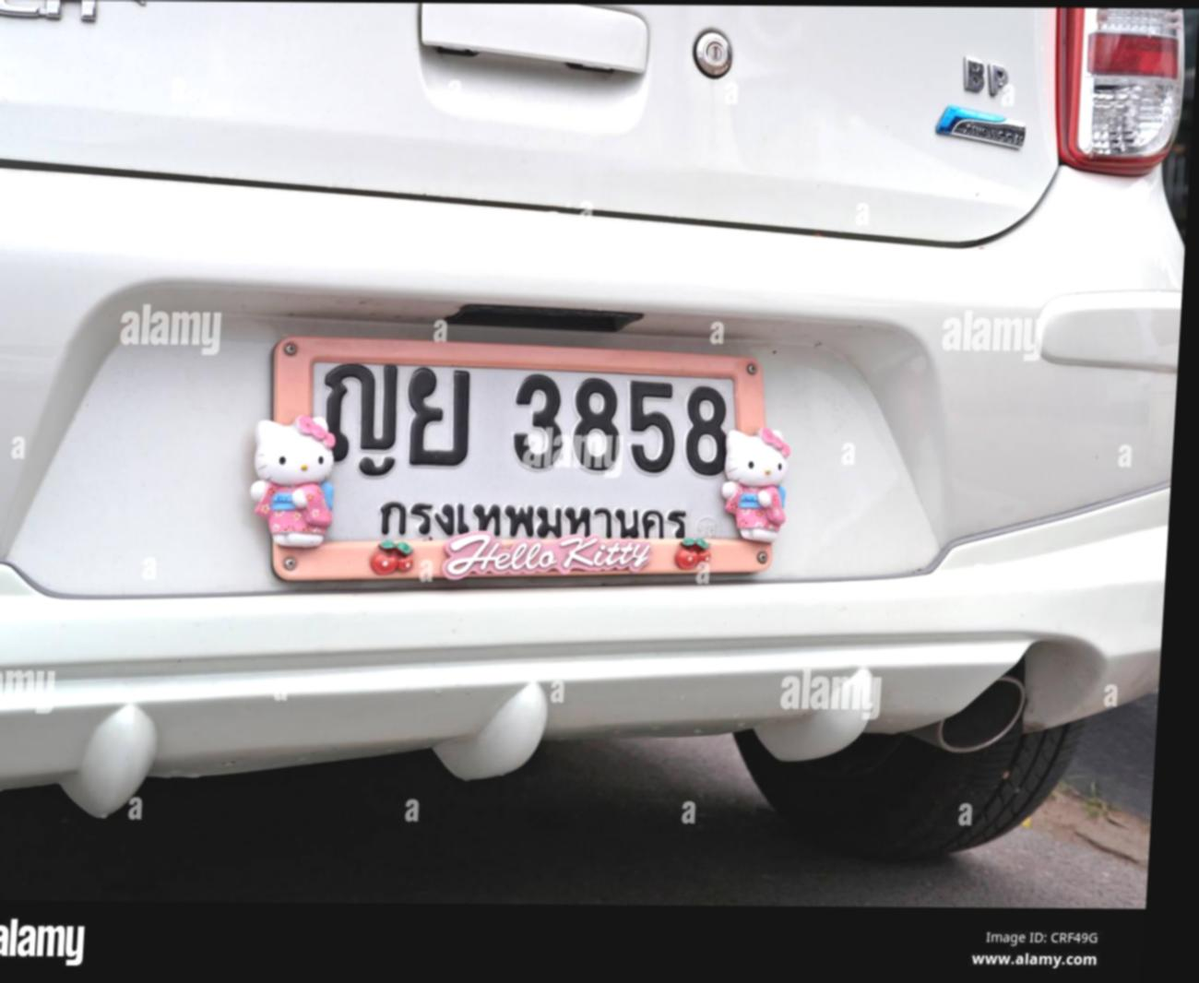License_Plate: (254, 313, 818, 606)
